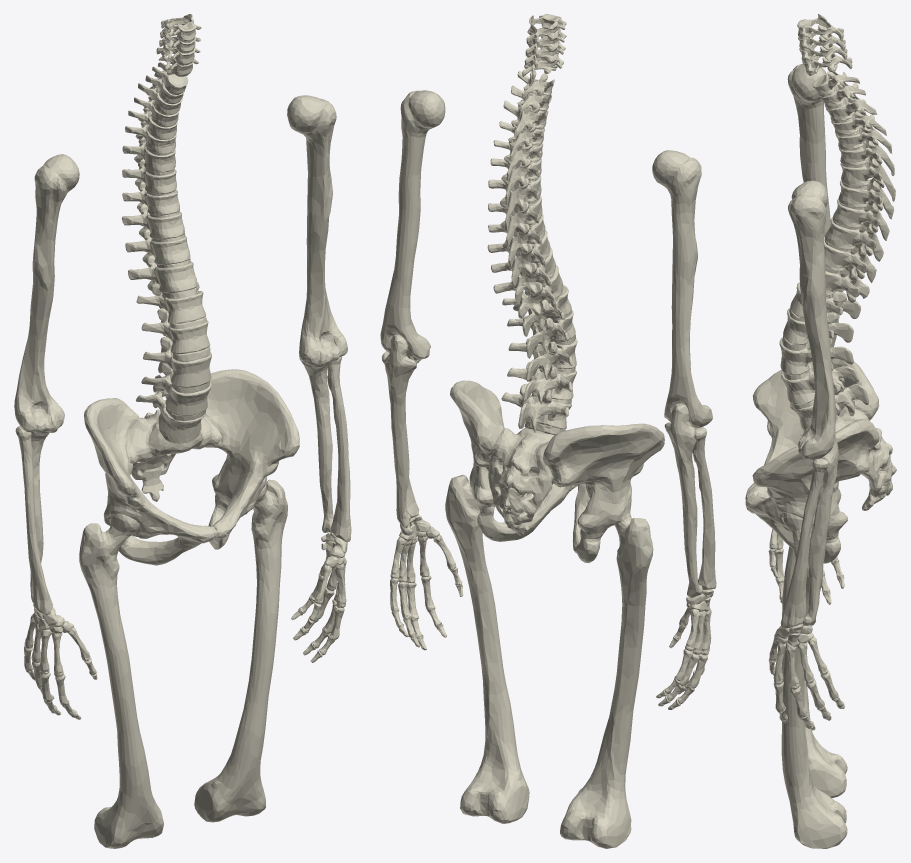
File: skelett_update_l.gltf
The picture shows the model from 3 angles, left to right: view 1: azimuth 30°, elevation 25°; view 2: azimuth 150°, elevation 25°; view 3: azimuth 270°, elevation 25°; orthographic projection. The views are drawn at different scales.
Parts seen in each view (by area): view 1: Object_5; view 2: Object_5; view 3: Object_5.
Part boxes in pixels (<box>): Object_5: <box>14,14,351,848</box>; Object_5: <box>380,14,716,848</box>; Object_5: <box>745,14,896,848</box>.
Bounding box in the file's own units: 1.88 × 4.49 × 0.7726.
